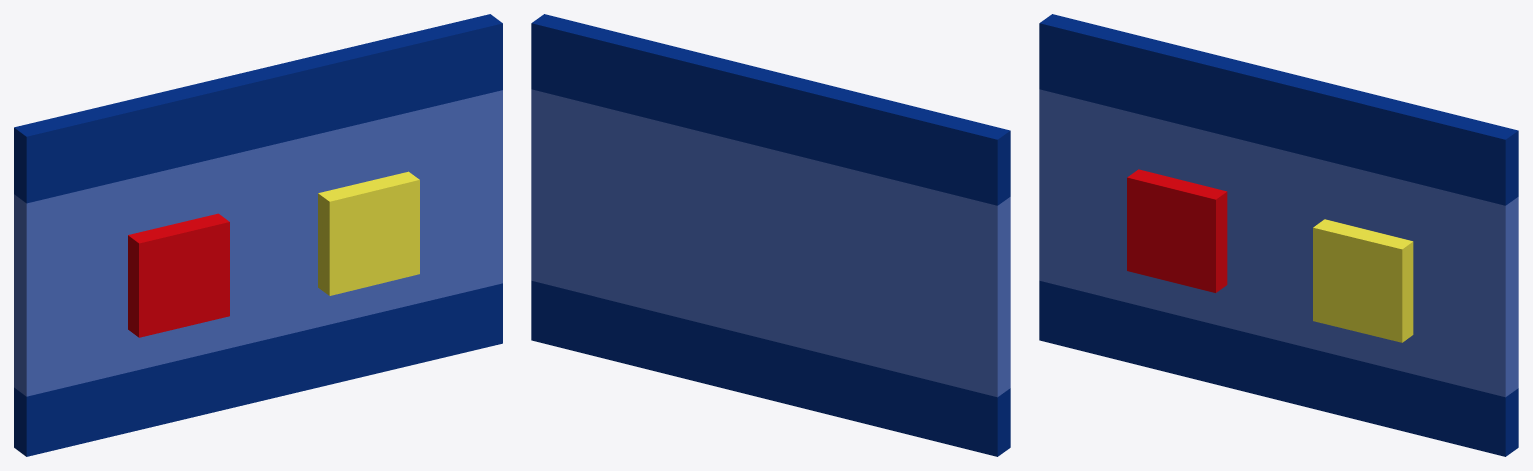
Rendered from shutDownMenu.glb.
3 renders of one model, left to right at view 1: azimuth 30°, elevation 25°; view 2: azimuth 150°, elevation 25°; view 3: azimuth 330°, elevation 25°, orthographic.
Visible parts, largest first — view 1: Cube, Cube.001, Cube.002, resetButton, ShutDownButton; view 2: Cube, Cube.001, Cube.002; view 3: Cube, Cube.001, Cube.002, ShutDownButton, resetButton.
Boxes of the visible parts, x1,y1,x2,y2 form: Cube: (14, 90, 502, 396); Cube.001: (14, 14, 502, 203); Cube.002: (14, 283, 502, 456); resetButton: (318, 171, 419, 295); ShutDownButton: (128, 213, 229, 337); Cube: (531, 89, 1010, 397); Cube.001: (531, 14, 1010, 205); Cube.002: (531, 280, 1010, 456); Cube: (1039, 89, 1518, 397); Cube.001: (1039, 14, 1518, 205); Cube.002: (1039, 280, 1518, 456); ShutDownButton: (1127, 169, 1227, 292); resetButton: (1313, 219, 1413, 342).
Bounding box in the file's own units: 0.6341 × 0.4095 × 0.0609.
